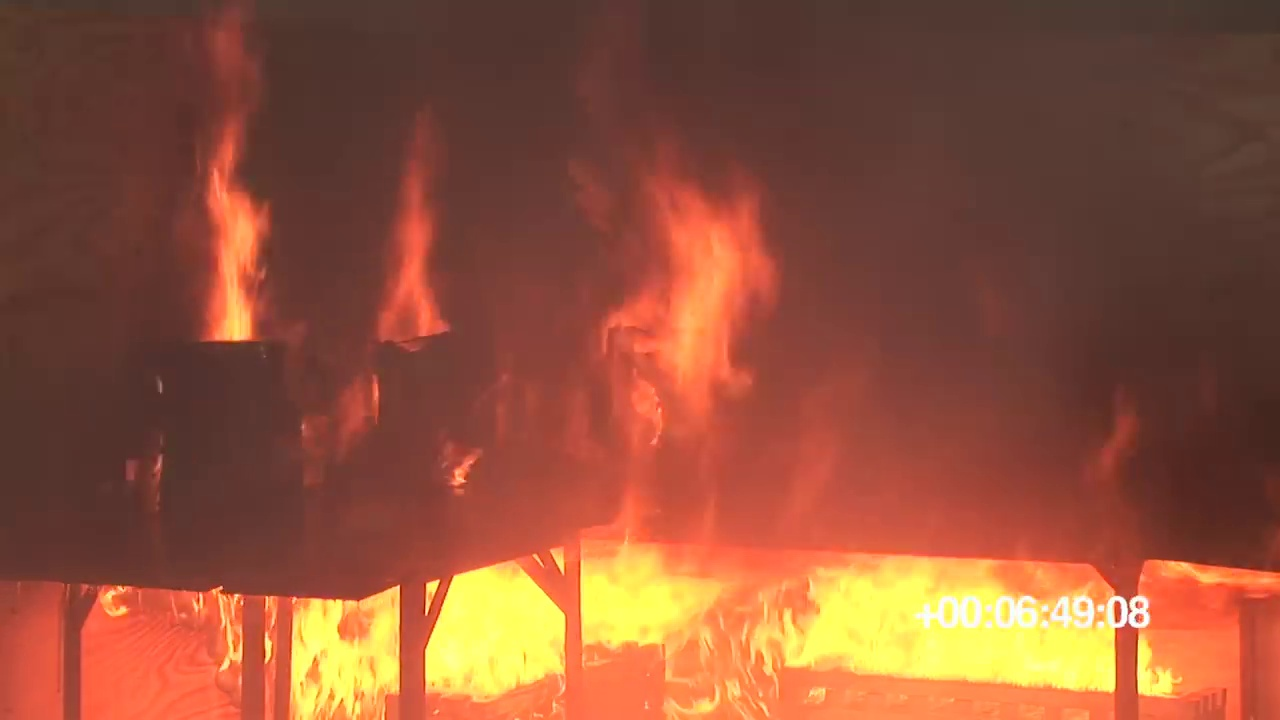fire: (288, 568, 1178, 696), (615, 182, 770, 389), (201, 176, 260, 339), (381, 188, 440, 340)
